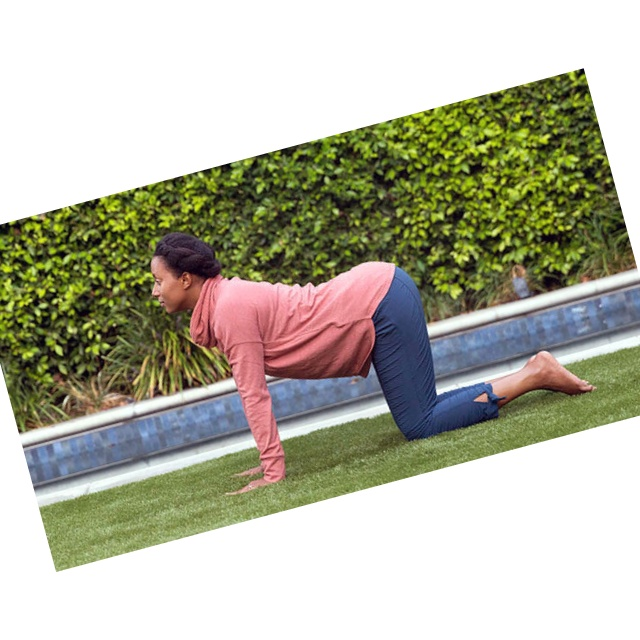Cow_Pose: (150, 232, 598, 496)
